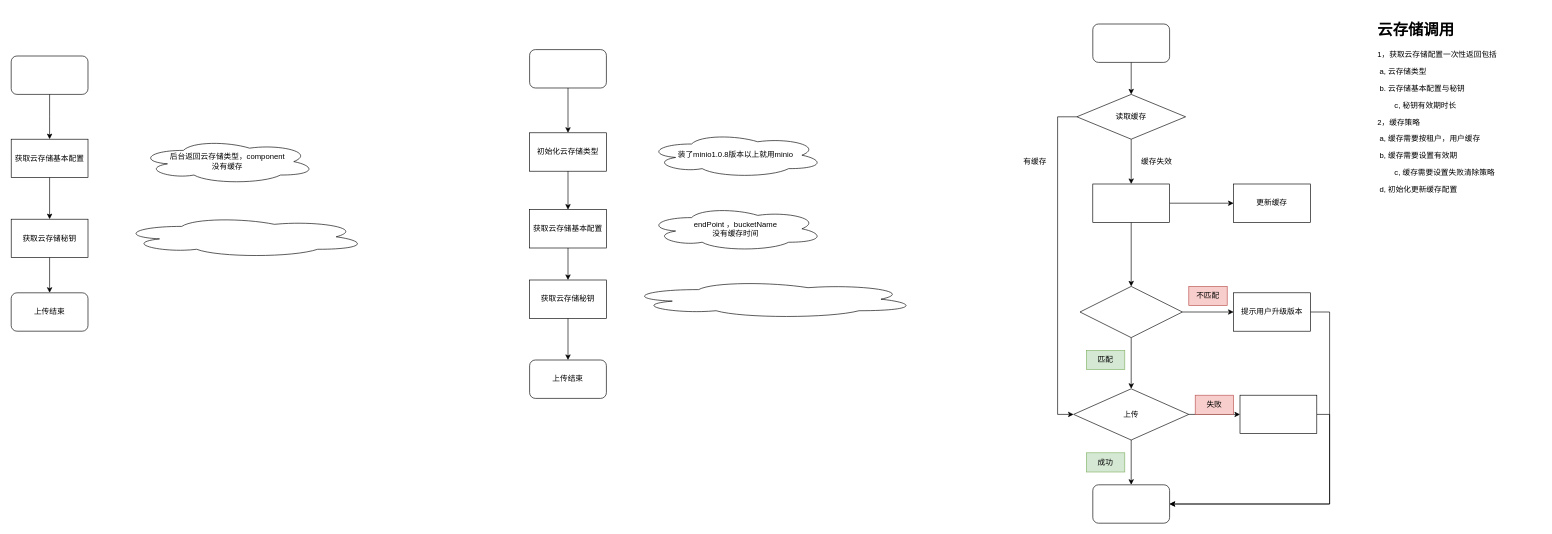
Some shapes in this 1552 by 534 pixel diagram are drawn without their labels. The shapes that lost their labels are listed below. From the top down, each one's centre as x and y in pixels, then its label:
At pixel 1131 42: "app云存储 上传开始".
At pixel 49 74: "成本app上传".
At pixel 567 68: "质检app上传".
At pixel 1131 202: "获取云存储配置".
At pixel 243 236: "AccessKeyId ， AccessKeySecret， SecurityToken， expirationTimeInGMTFormat 没有缓存".
At pixel 771 298: "AccessKeyId ， AccessKeySecret， SecurityToken， expirationTimeInGMTFormat 缓存时间40分钟".
At pixel 1130 312: "匹配云服务插件".
At pixel 1278 414: "清除缓存".
At pixel 1131 503: "结束".
